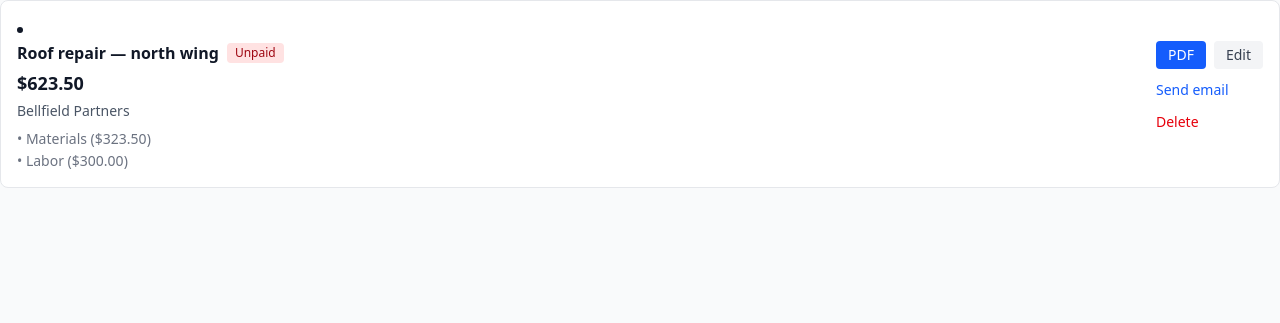
Scenario: InvoiceRow › shows the edit form when the Edit button is clicked
This screenshot has width=1280, height=323.
Click the button "Edit": (1238, 55) x1=1214 y1=41 x2=1263 y2=69
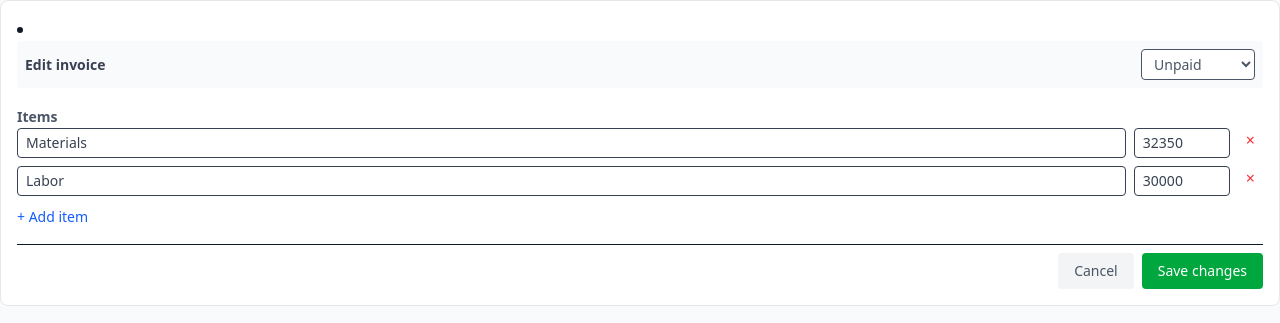
Expected: the text "Edit invoice" is shown, x1=25 y1=54 x2=106 y2=74
